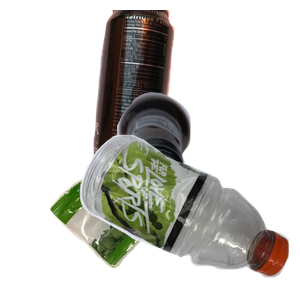glass: (115, 90, 300, 270)
metal: (91, 10, 258, 188)
plastic: (77, 132, 300, 300)
trash: (47, 146, 220, 300)
